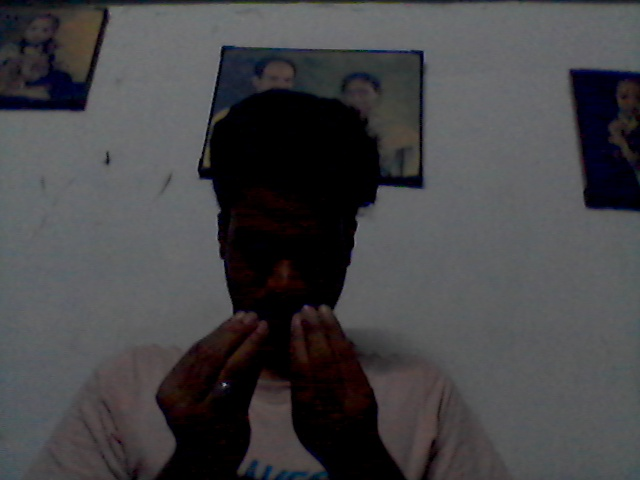Sorry: (154, 303, 386, 456)
